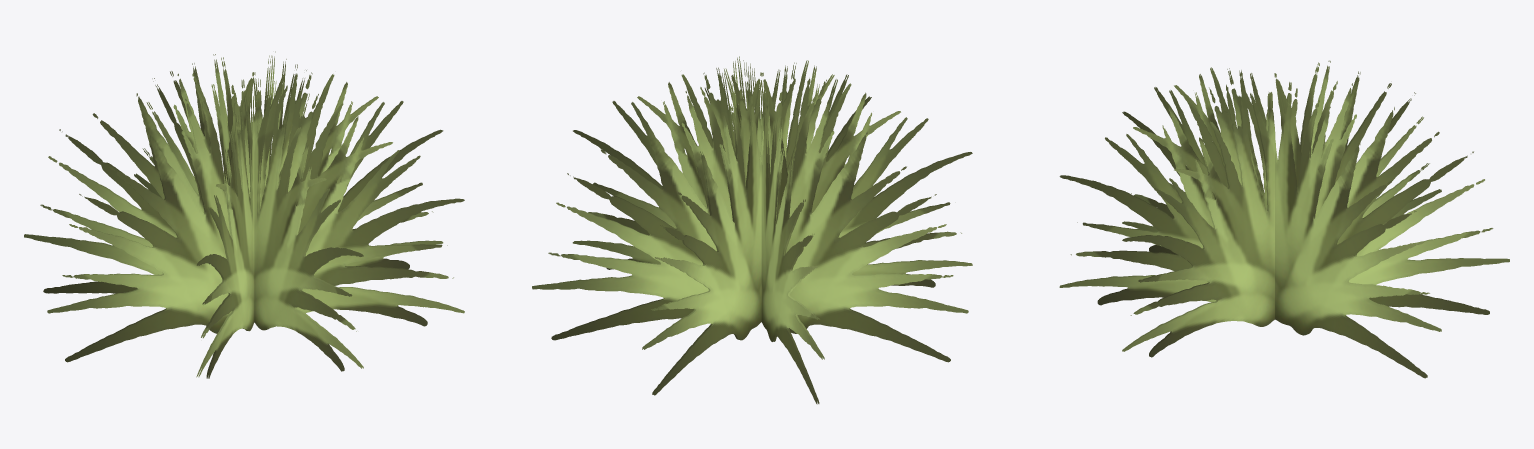
Rendered from painted-weed-4.glb.
3 renders of one model, left to right at view 1: azimuth 30°, elevation 25°; view 2: azimuth 150°, elevation 25°; view 3: azimuth 270°, elevation 25°, orthographic.
Bounding box in the file's own units: 10 × 6.65 × 10.
1 material, 1 textured.
